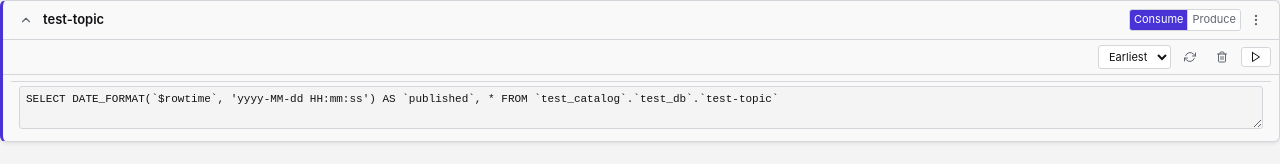
Test: [@stream-card-coverage] StreamCard Coverage › [@stream-card-coverage] Mode Switching › switching from produce to consume stops auto-refresh
// Start auto-refresh
Click the button named "Start live streaming": (1256, 57) x1=1241 y1=47 x2=1271 y2=67
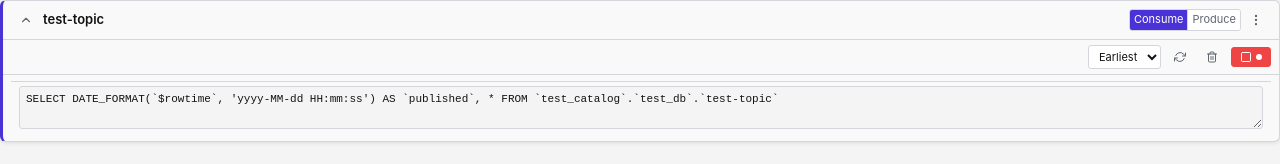
// Switch to produce mode (mode change should stop auto-refresh)
Click the button "Produce": (1214, 20) x1=1188 y1=10 x2=1240 y2=30
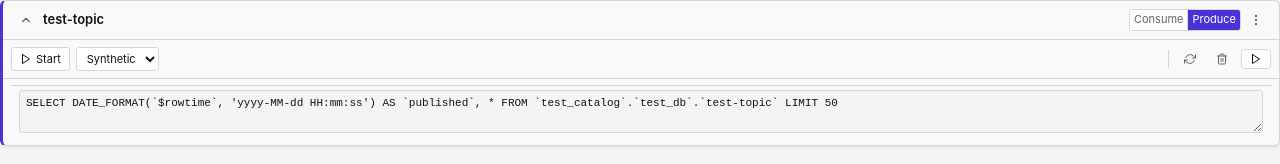
Check: the button named "Start live streaming" is shown, box x1=1241 y1=49 x2=1271 y2=69
